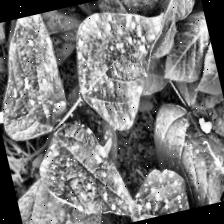Bean Rust: (64, 0, 186, 139), (30, 110, 146, 224), (0, 11, 77, 144), (14, 166, 105, 224), (122, 161, 196, 222), (94, 0, 160, 27)
